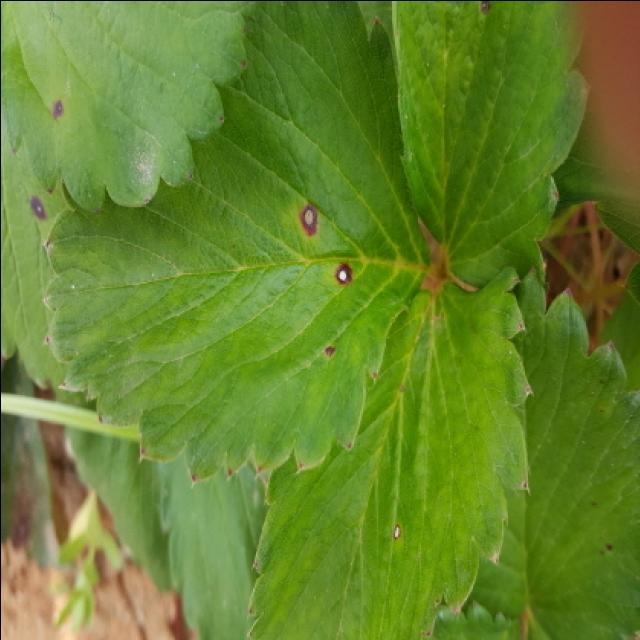Leaf Spot: (43, 2, 430, 484), (246, 264, 532, 640), (465, 244, 640, 640), (390, 2, 588, 287), (2, 2, 248, 209), (2, 118, 72, 390)
